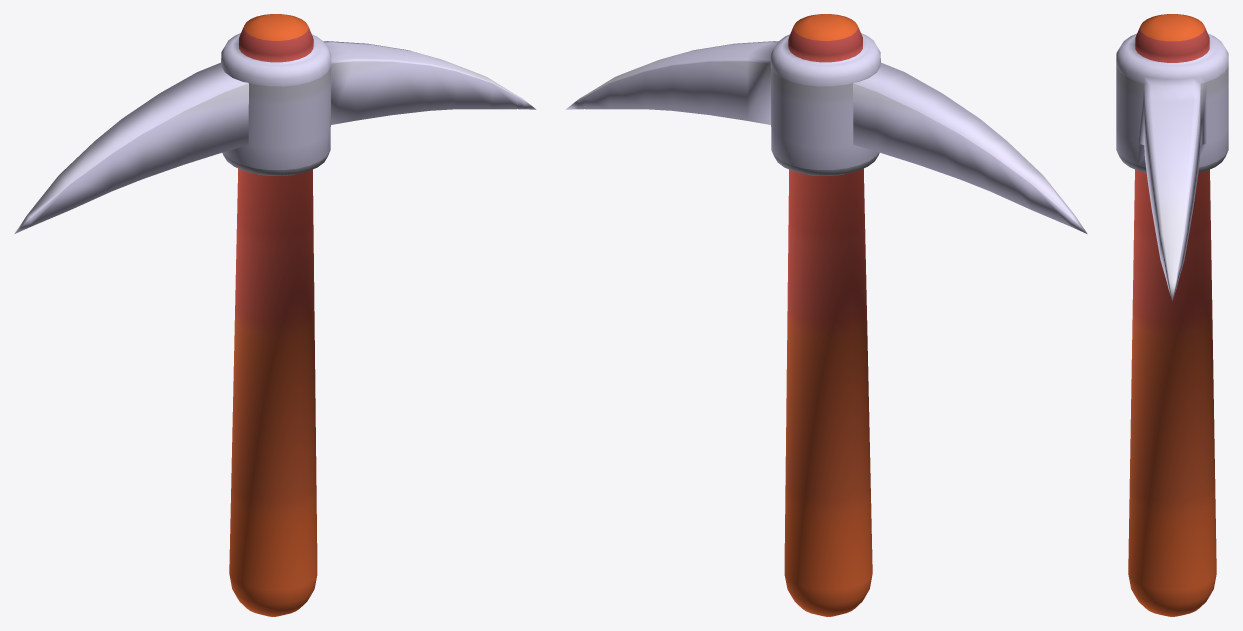
The model's file is Pickaxe.fbx.
3 renders of one model, left to right at view 1: azimuth 30°, elevation 25°; view 2: azimuth 150°, elevation 25°; view 3: azimuth 270°, elevation 25°, orthographic.
Parts seen in each view (by area): view 1: Cylinder_Cylinder.001; view 2: Cylinder_Cylinder.001; view 3: Cylinder_Cylinder.001.
Boxes of the visible parts, x1,y1,x2,y2 form: Cylinder_Cylinder.001: (14,14,536,616); Cylinder_Cylinder.001: (565,14,1087,616); Cylinder_Cylinder.001: (1116,14,1228,616).
Bounding box in the file's own units: 40.15 × 43.49 × 7.44.
